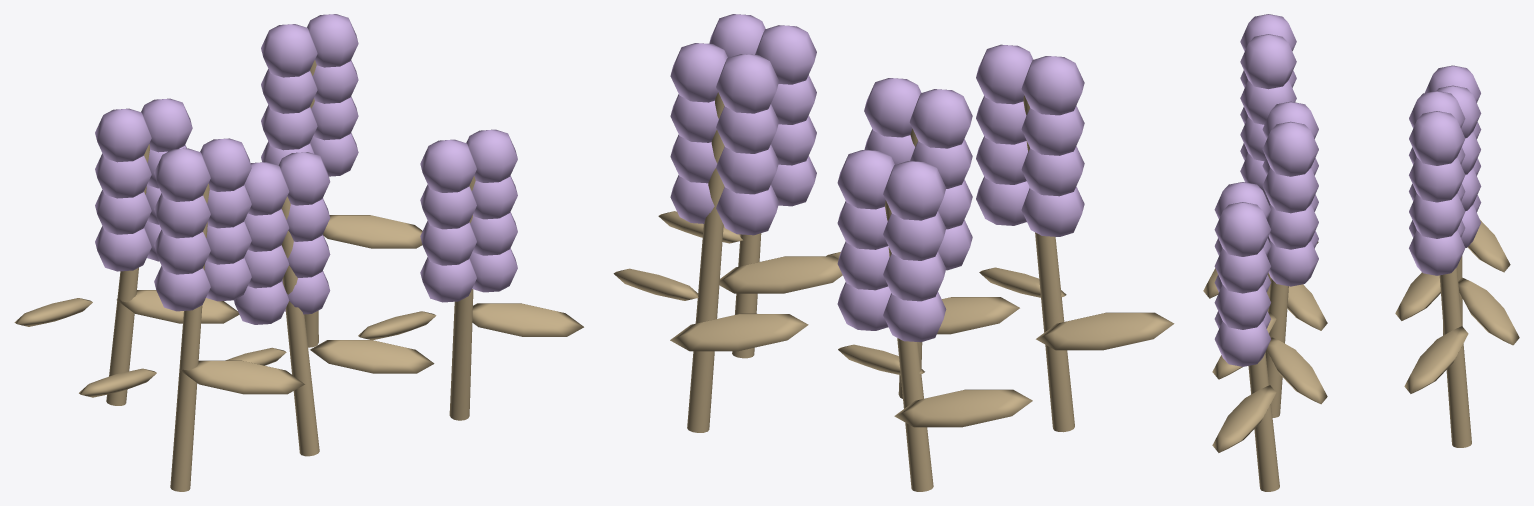
Rendered from flower_3_autumn.glb.
The picture shows the model from 3 angles, left to right: view 1: azimuth 30°, elevation 25°; view 2: azimuth 150°, elevation 25°; view 3: azimuth 270°, elevation 25°; orthographic projection. The views are drawn at different scales.
Size of the model in its own units: 0.6121 by 0.4271 by 0.3462.
